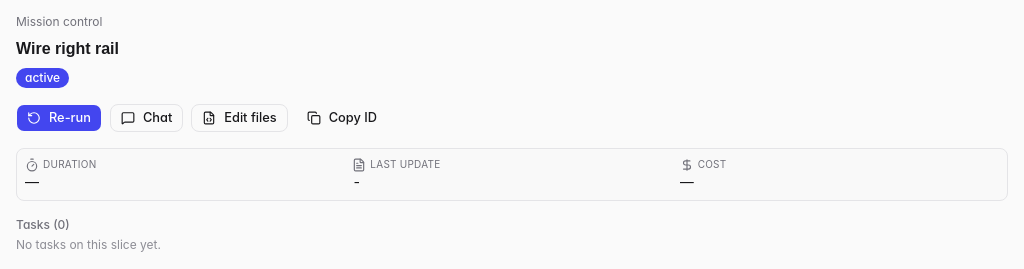
Test: slice-detail-panel copy id › degrades gracefully when navigator.clipboard is unavailable (no throw)
// The click MUST NOT throw even though the clipboard API is absent.
Click the button with test id "slice-detail-panel-copy-id": (342, 118) left=296, top=104, right=388, bottom=132
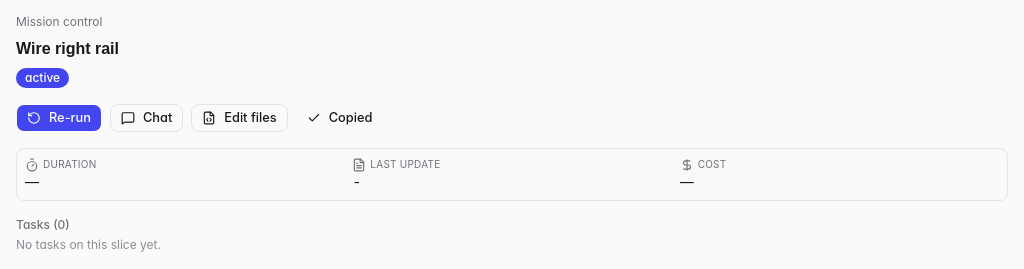
Now the button with test id "slice-detail-panel-copy-id" reads "Copied", box left=296, top=104, right=383, bottom=132
